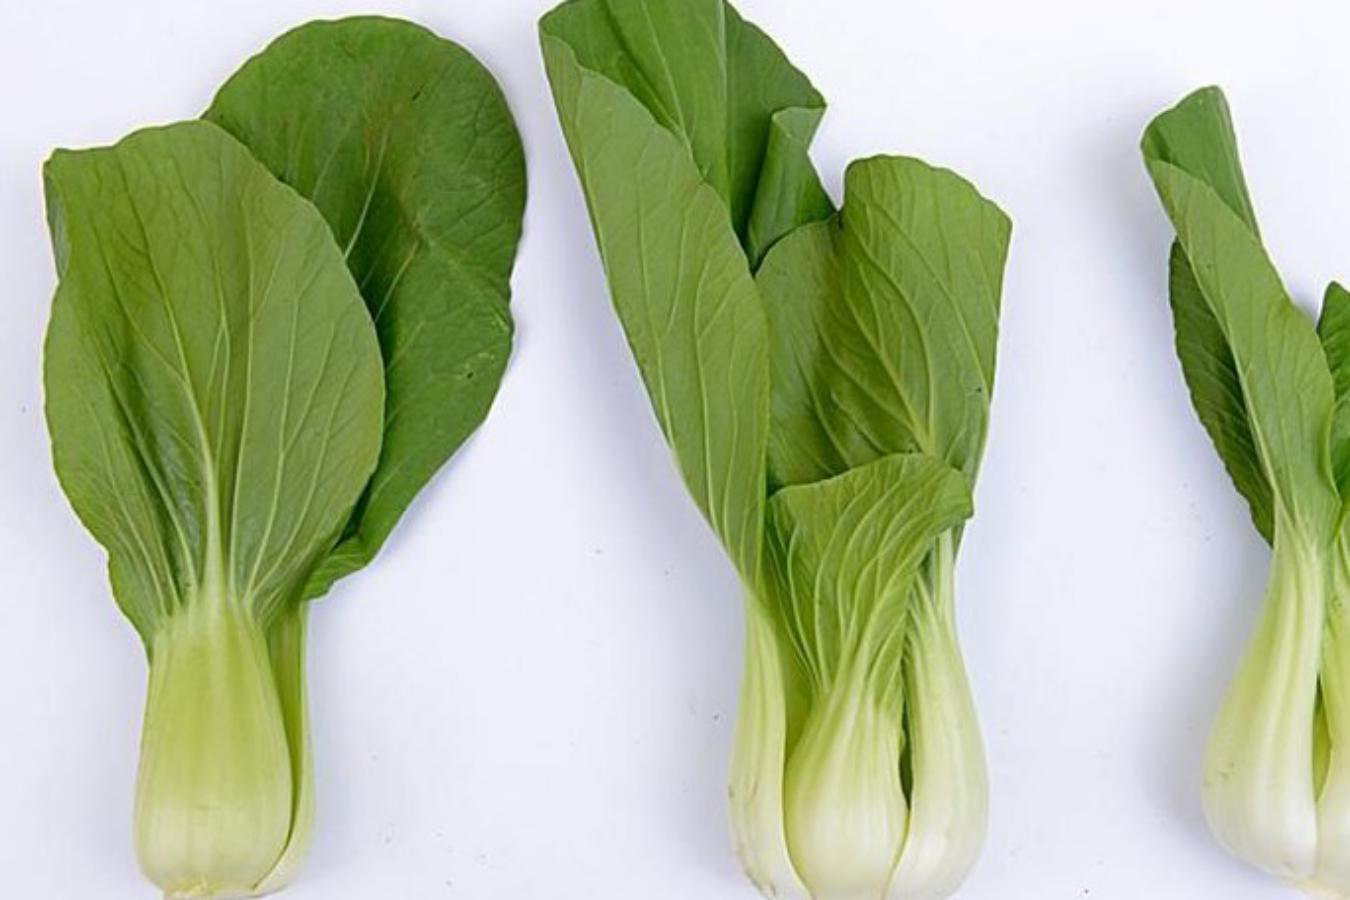Sawi: (13, 11, 556, 900)
